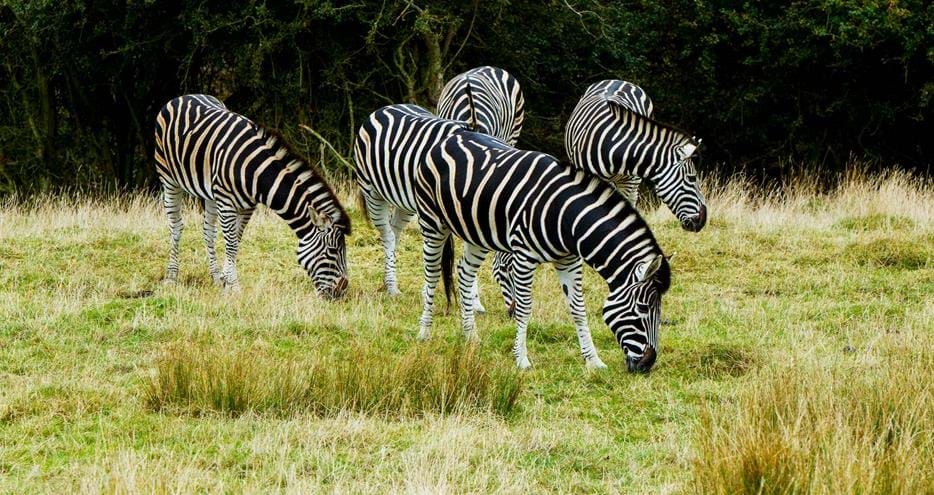zebra: (540, 254, 809, 495), (248, 196, 444, 418), (444, 208, 623, 446), (633, 156, 791, 339)
